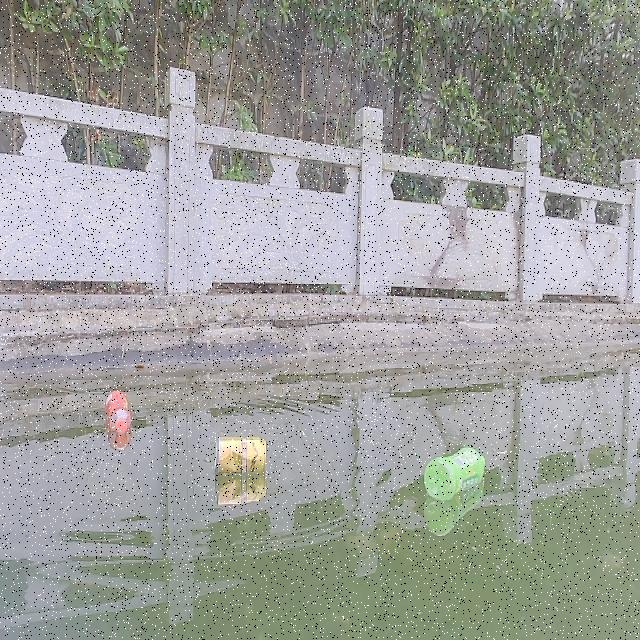bottle: (421, 444, 487, 501), (104, 389, 130, 432)
can: (214, 433, 266, 476)
